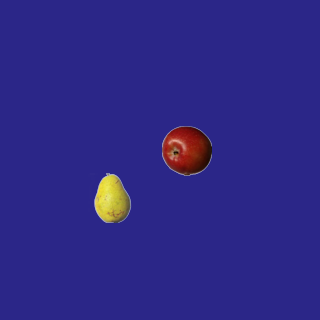Apple Braeburn: (161, 125, 211, 175)
Pear Monster: (87, 172, 137, 222)
